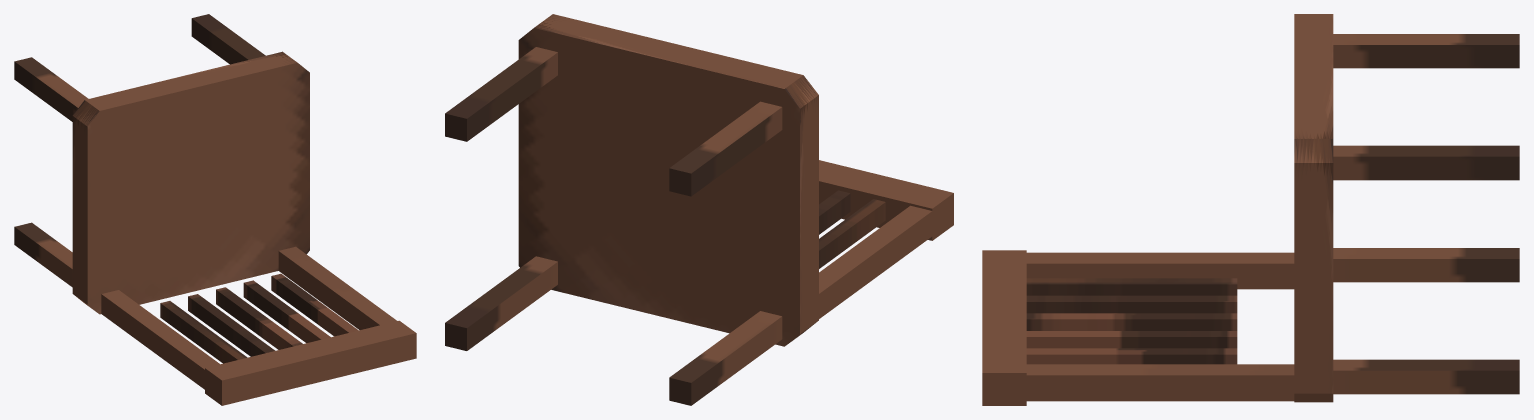
The model's file is pz_chair_seating_indoor_02_wooden.obj.
3 views of the same model, side by side, from view 1: azimuth 30°, elevation 25°; view 2: azimuth 150°, elevation 25°; view 3: azimuth 270°, elevation 25° (orthographic). The views are drawn at different scales.
Parts seen in each view (by area): view 1: root; view 2: root; view 3: root.
Part boxes in pixels (x1,y1,x2,y2): root: (14, 14, 416, 405); root: (445, 14, 953, 405); root: (982, 14, 1519, 405).
Bounding box in the file's own units: 0.64 × 0.57 × 1.03.
Materials: 1 (1 with a texture image).
